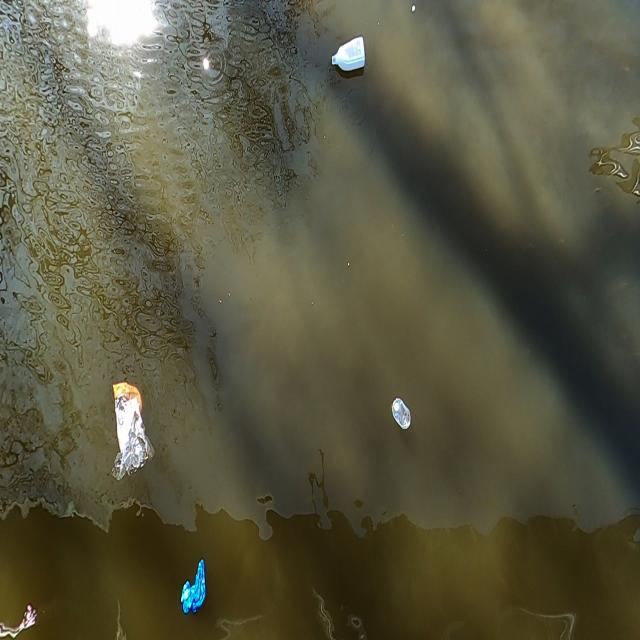Autre plastique: (330, 35, 366, 85)
Bouteille plastique: (388, 395, 411, 441)
